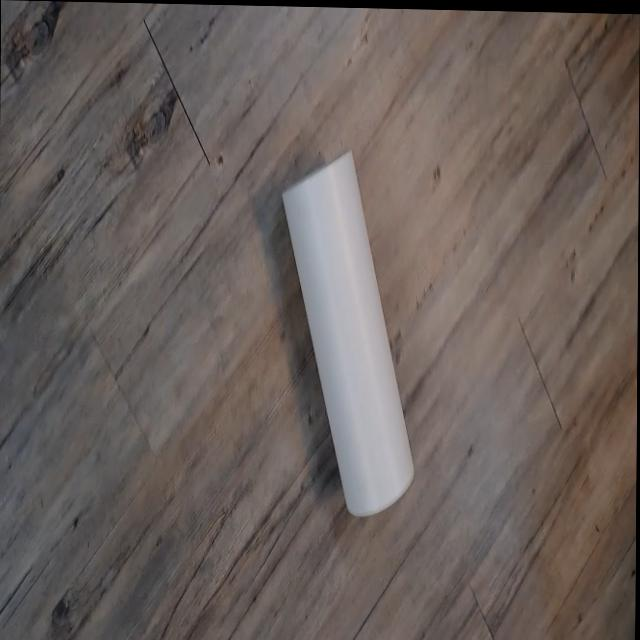CORAL: (273, 143, 425, 530)
